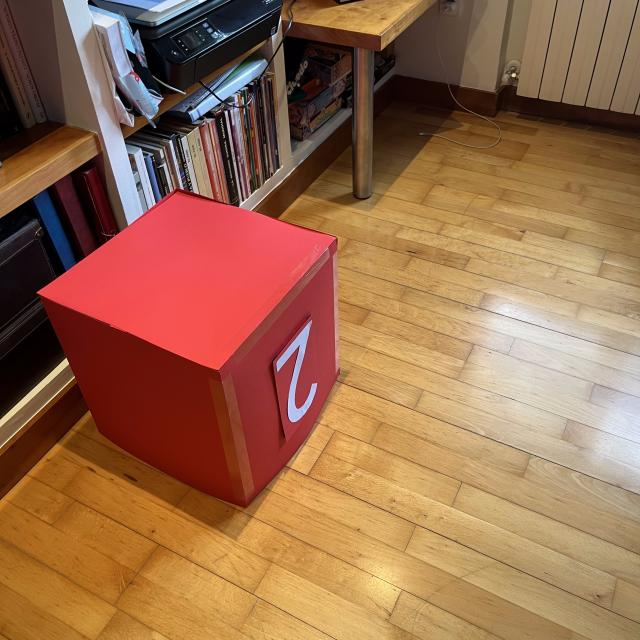box: (35, 186, 345, 510)
